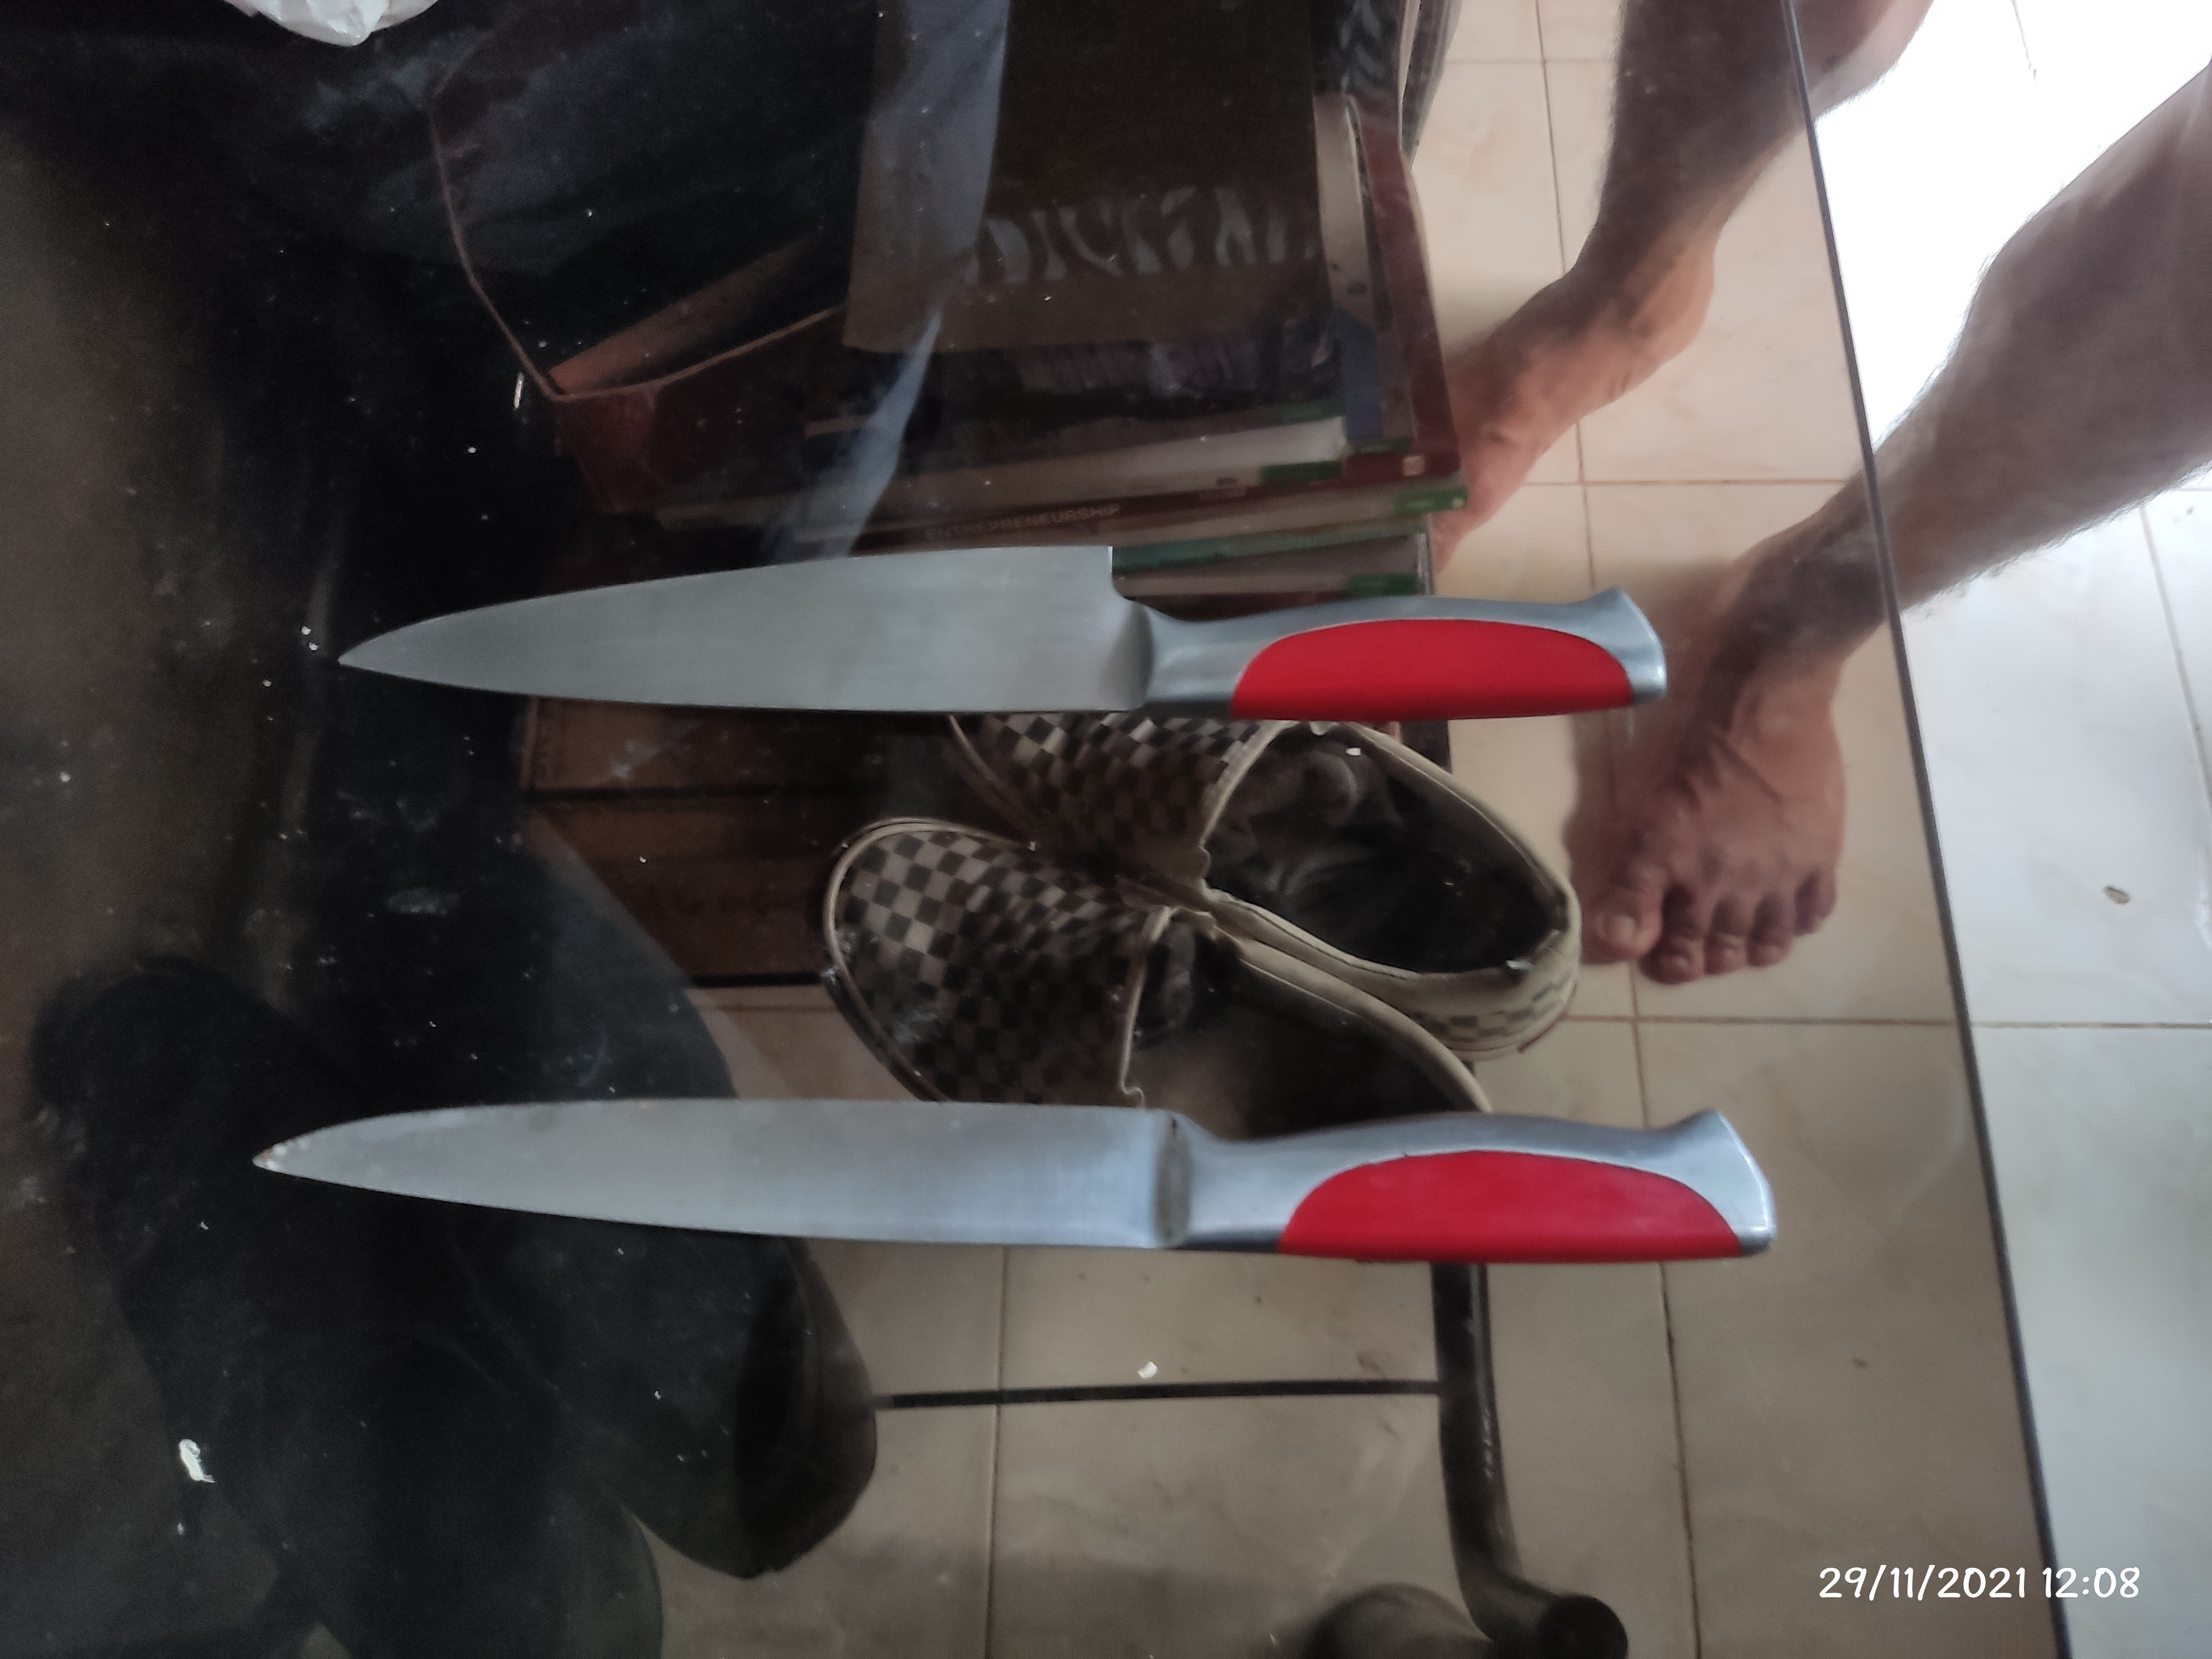knife: (258, 1091, 1777, 1276), (340, 535, 1674, 716)
